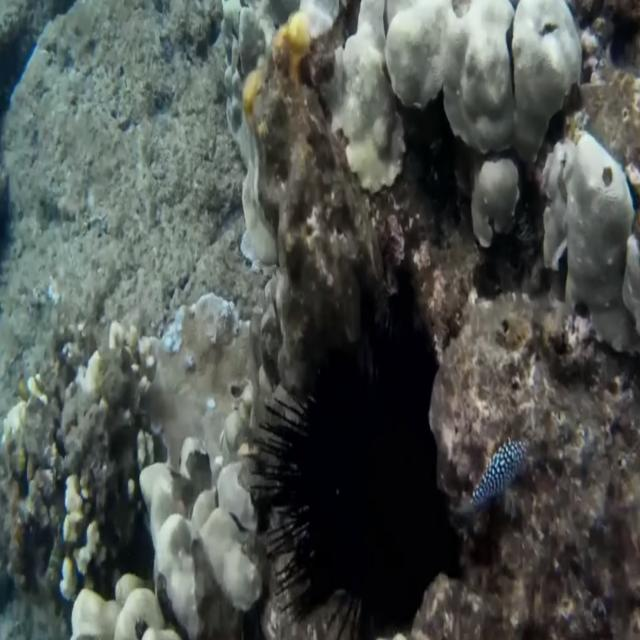Urchin: (242, 331, 446, 625)
